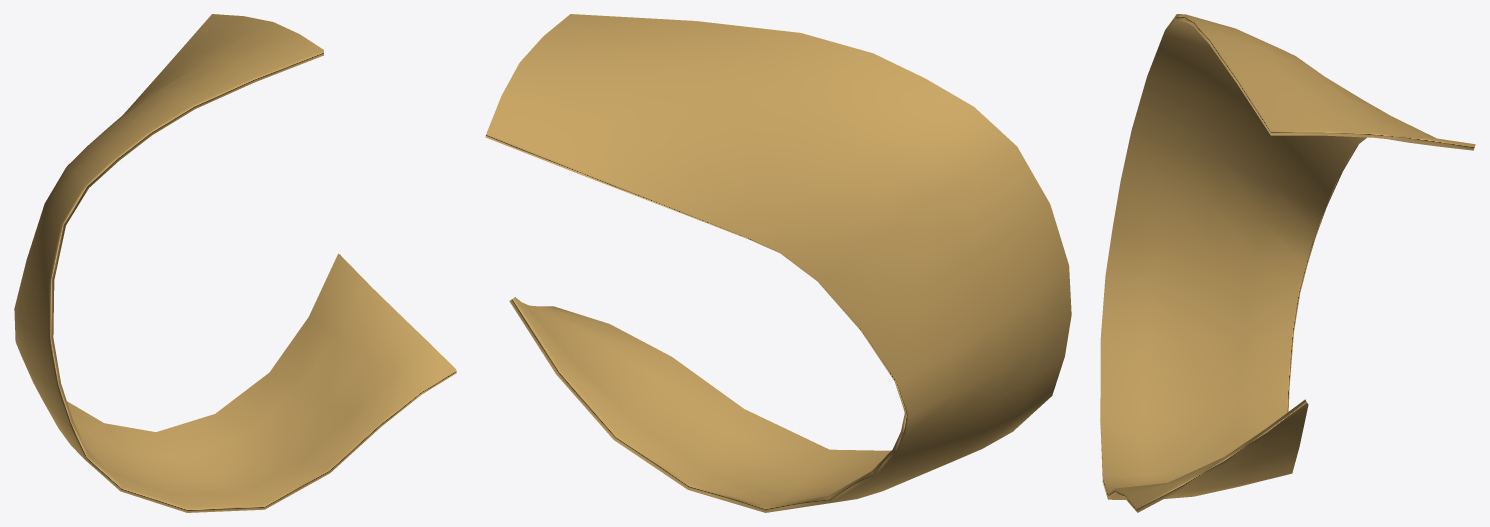
3 renders of one model, left to right at view 1: azimuth 30°, elevation 25°; view 2: azimuth 150°, elevation 25°; view 3: azimuth 270°, elevation 25°, orthographic. The views are drawn at different scales.
Visible parts, largest first — view 1: 右侧桡骨环状韧带; view 2: 右侧桡骨环状韧带; view 3: 右侧桡骨环状韧带.
Boxes of the visible parts, x1=… form: 右侧桡骨环状韧带: x1=14, y1=14, x2=456, y2=512; 右侧桡骨环状韧带: x1=485, y1=14, x2=1071, y2=512; 右侧桡骨环状韧带: x1=1100, y1=14, x2=1475, y2=512.
Size of the model in its own units: 0.0368 by 0.0325 by 0.0254.
